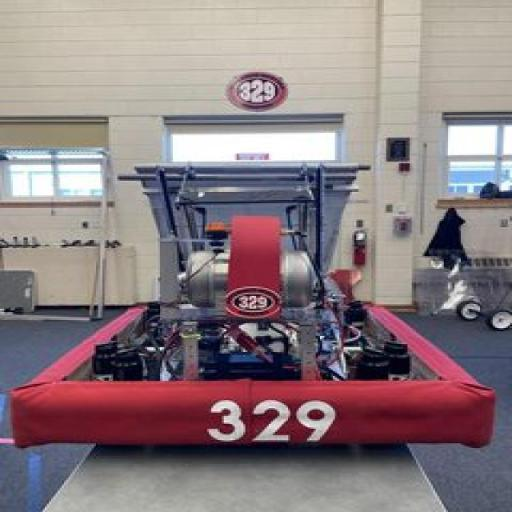robot: (0, 130, 506, 485)
